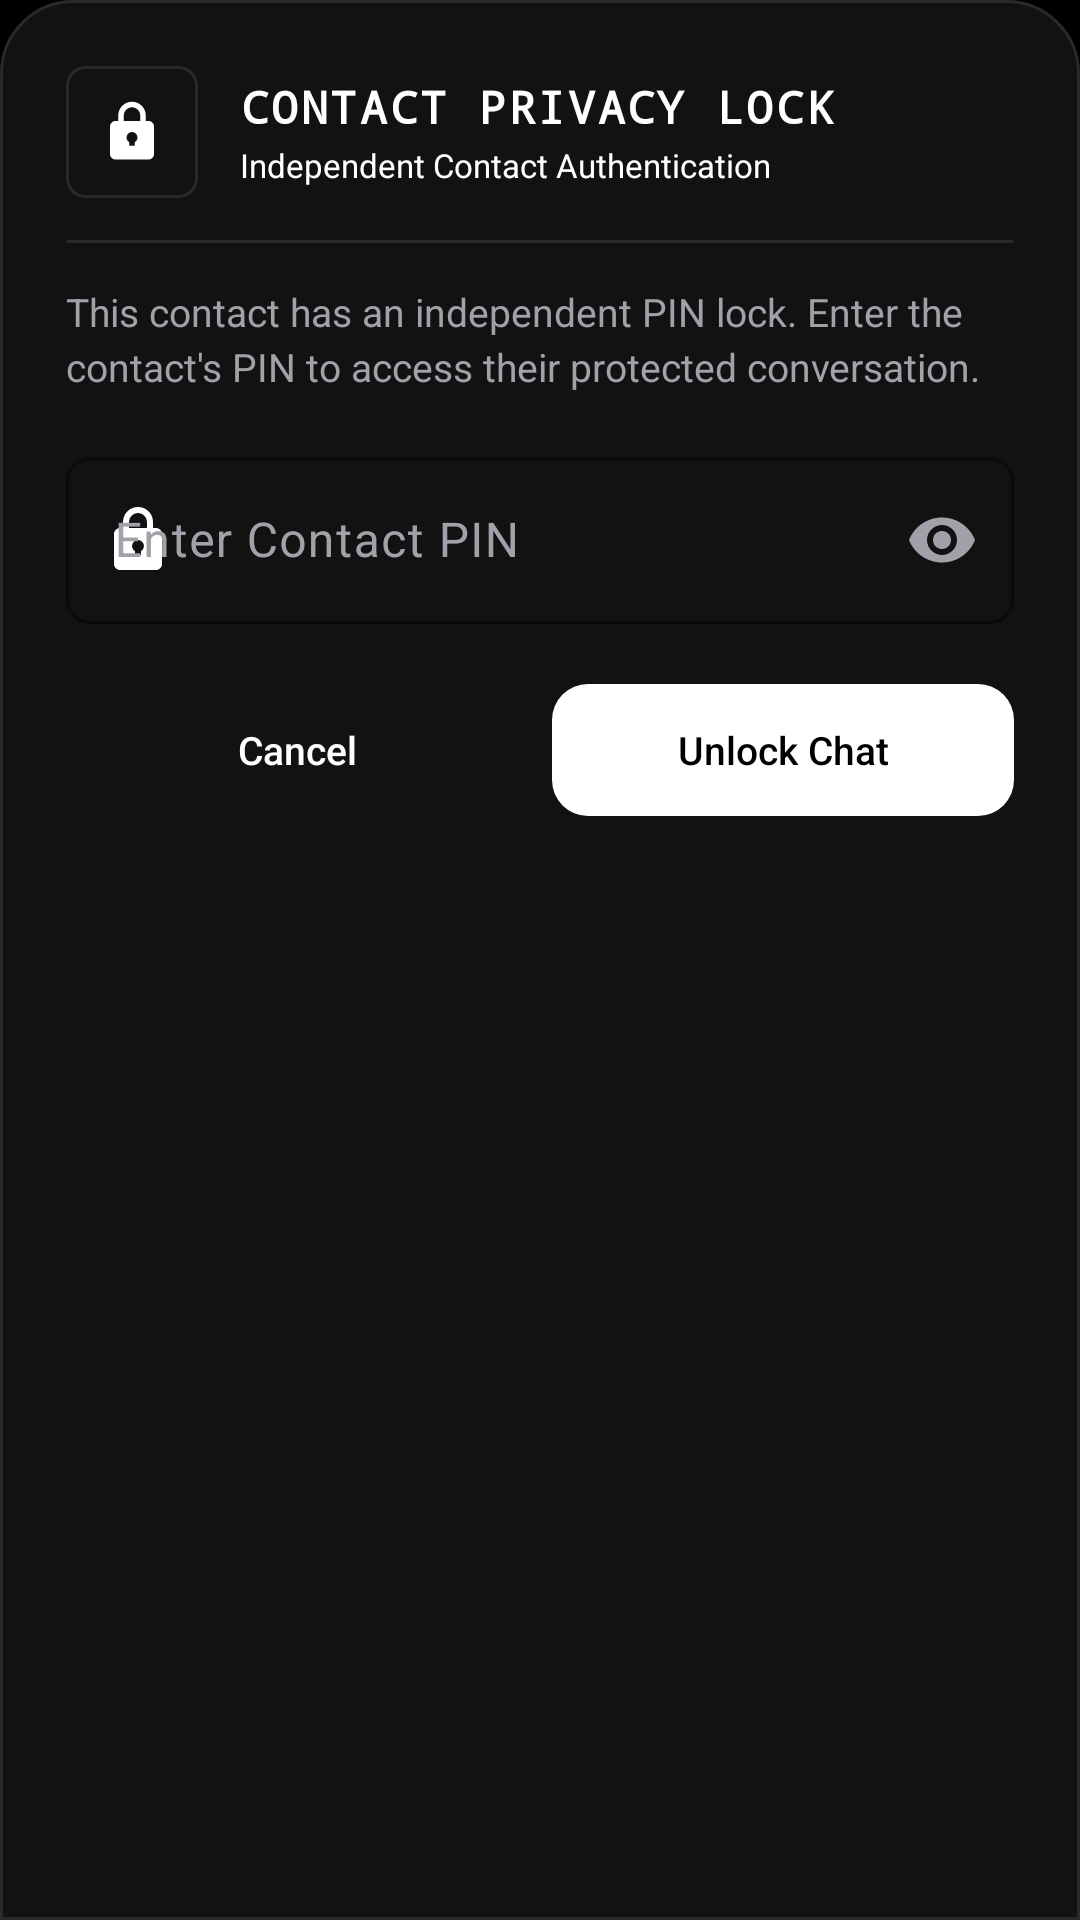

Where icons sit on this 1080*1920 app screen, as (left=x1, top=y1, right=x2, bottom=y2):
lock closed: (left=110, top=101, right=154, bottom=160)
